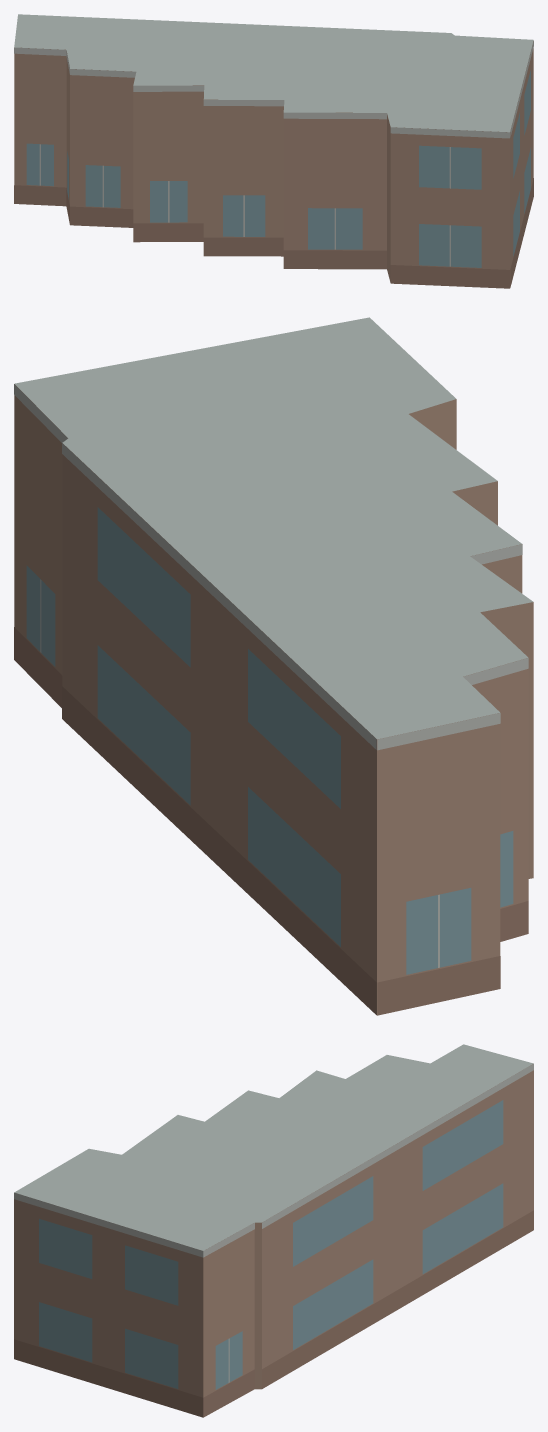
The model's file is survey-upis-32527662.glb.
3 renders of one model, top to bottom at view 1: azimuth 30°, elevation 25°; view 2: azimuth 150°, elevation 25°; view 3: azimuth 270°, elevation 25°, orthographic. The views are drawn at different scales.
Parts seen in each view (by area): view 1: survey-upis-32527662.tmp; view 2: survey-upis-32527662.tmp; view 3: survey-upis-32527662.tmp.
Boxes of the visible parts, left/top/right/bottom form: survey-upis-32527662.tmp: left=14, top=14, right=533, bottom=288; survey-upis-32527662.tmp: left=14, top=317, right=533, bottom=1015; survey-upis-32527662.tmp: left=14, top=1044, right=533, bottom=1417.
Size of the model in its own units: 16.24 by 6.1 by 17.25.
